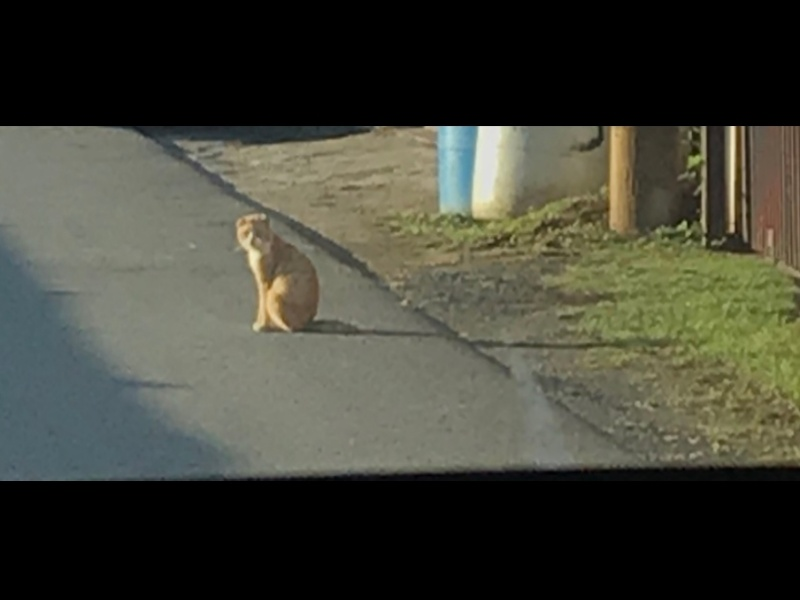cat: (232, 211, 361, 338)
